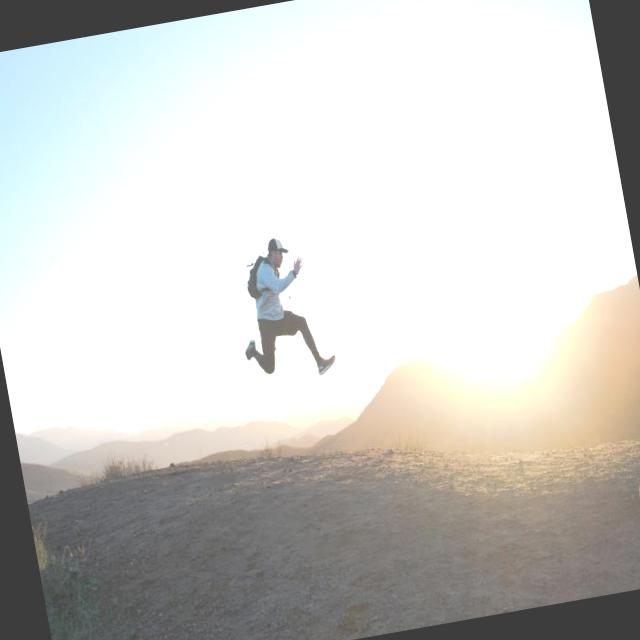person: (226, 230, 340, 387)
